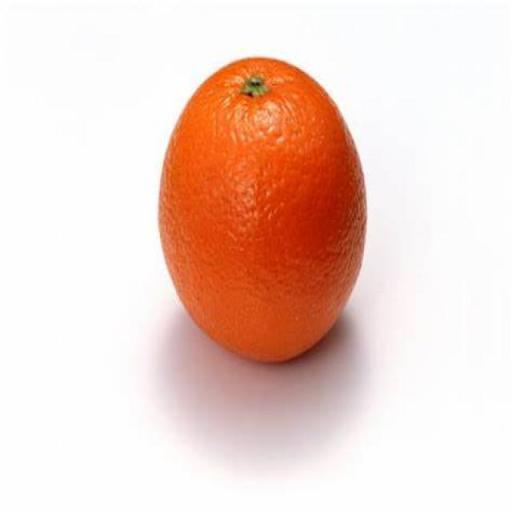fruit: (160, 57, 364, 358)
